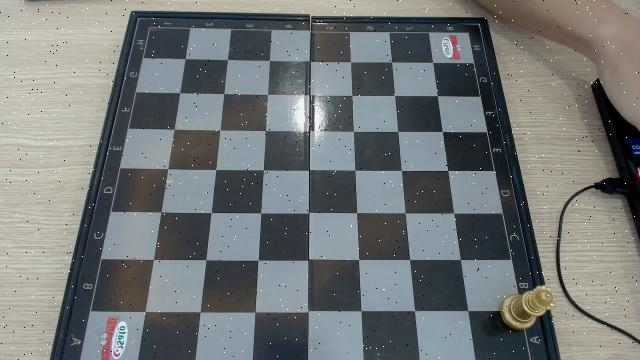black_queen: (500, 286, 557, 332)
